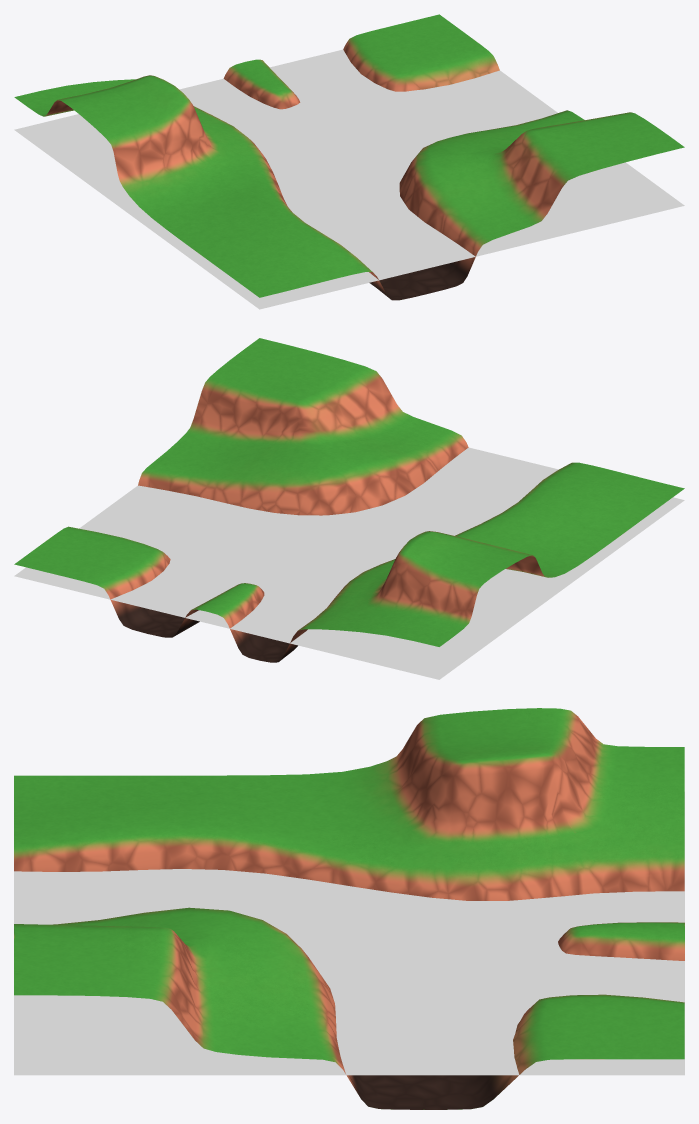
The model's file is river_bed.glb.
The picture shows the model from 3 angles, top to bottom: view 1: azimuth 30°, elevation 25°; view 2: azimuth 150°, elevation 25°; view 3: azimuth 270°, elevation 25°; orthographic projection. The views are drawn at different scales.
Visible parts, largest first — view 1: River, Water; view 2: River, Water; view 3: River, Water.
Boxes of the visible parts, x1,y1,x2,y2 form: River: [14, 14, 684, 300]; Water: [14, 49, 684, 309]; River: [14, 338, 684, 662]; Water: [14, 447, 684, 679]; River: [14, 708, 684, 1109]; Water: [14, 792, 684, 1075].
Size of the model in its own units: 6 by 1.28 by 6.
Materials: 2 (1 with a texture image).
